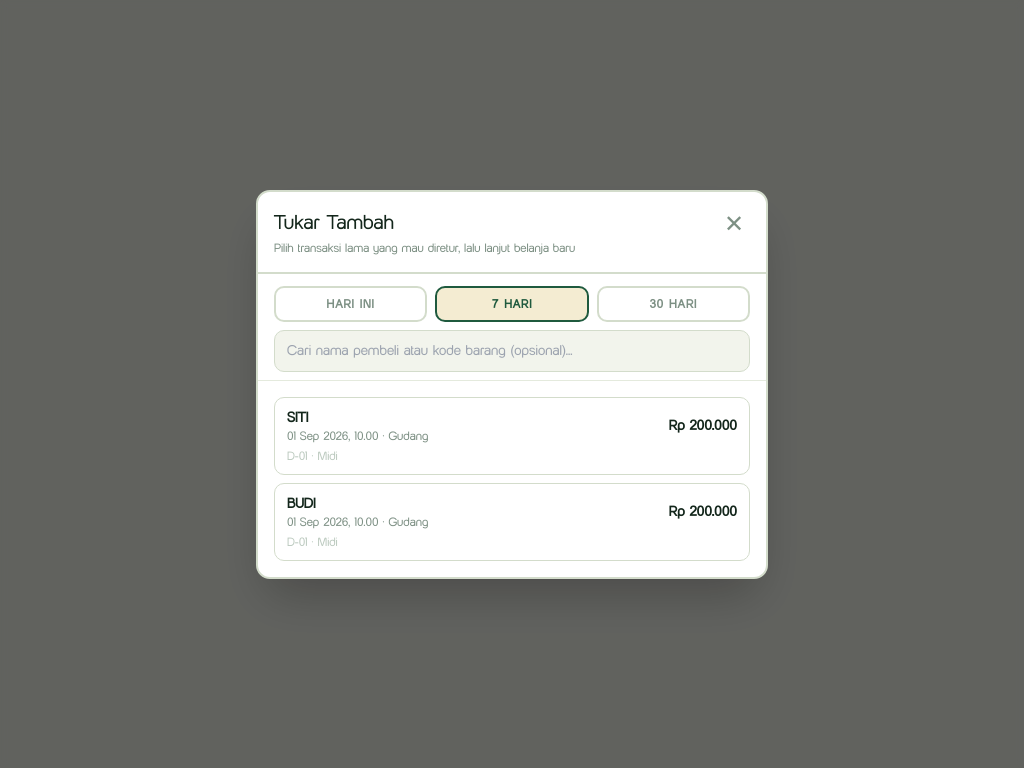
TukarTambahModal › search memfilter by nama pembeli
The width and height of the screenshot is (1024, 768).
In the field with placeholder "Cari nama pembeli atau kode barang (opsional)...": {"x": 512, "y": 350} [274, 330, 750, 372], type "SITI"
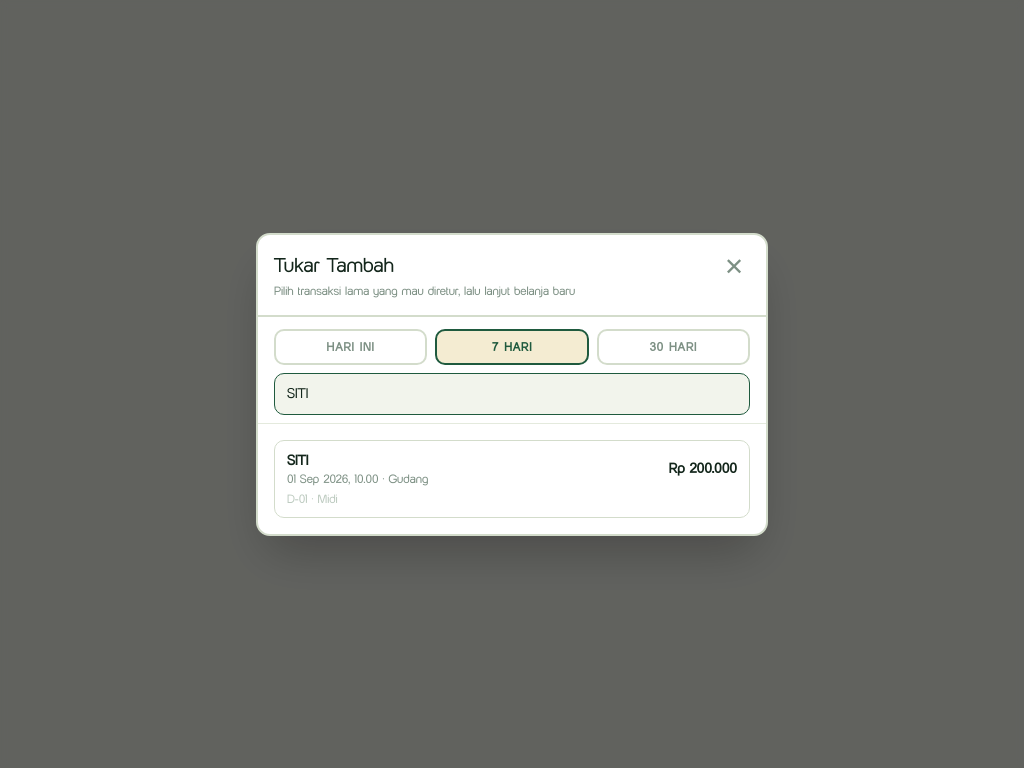
Check: the text "SITI" is shown, box [287, 452, 308, 468]
Check: the button "BUDI" is gone
